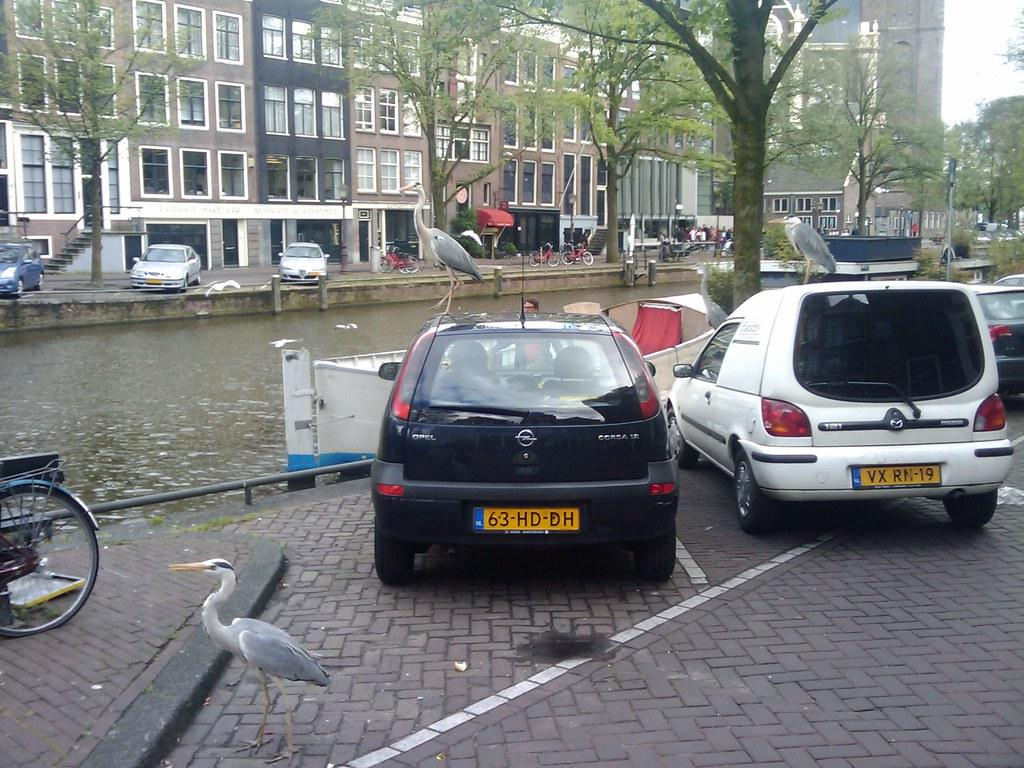car: (669, 280, 1015, 535), (371, 310, 682, 585), (130, 243, 202, 293), (1, 243, 45, 298), (279, 242, 330, 285)
